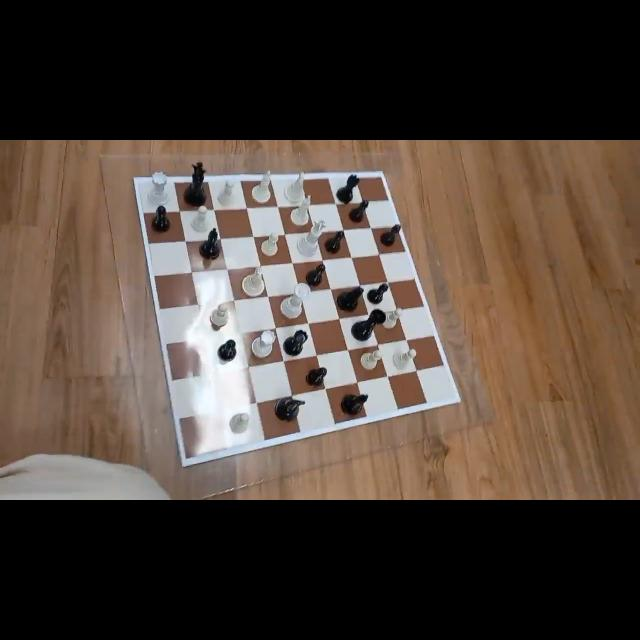chessboard-corner: (456, 396, 462, 406), (180, 462, 186, 470), (133, 174, 137, 182), (379, 169, 383, 177)
